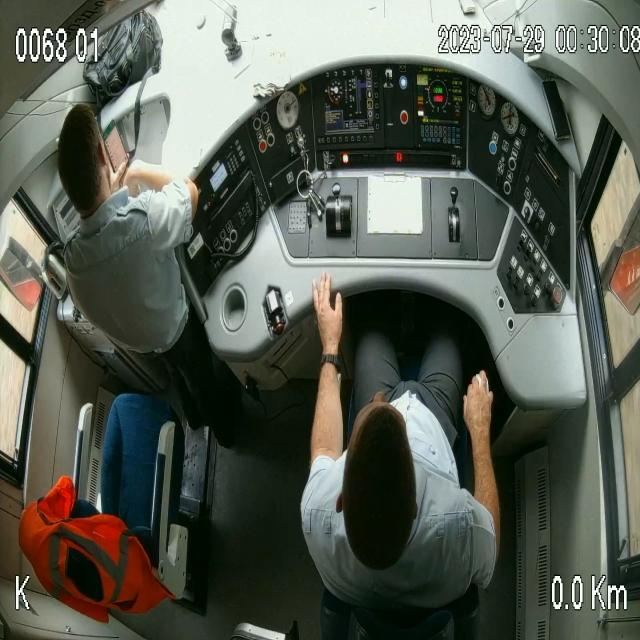smartphone: (101, 115, 132, 181)
